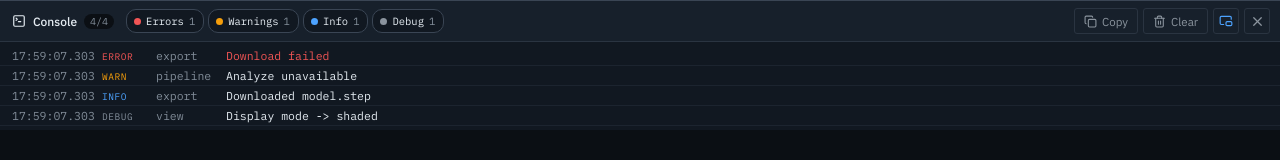
Test: DebugConsole › filters entries by severity with additive chips
The width and height of the screenshot is (1280, 160).
Expected: the text "Download failed" is shown 4 times, x1=226 y1=48 x2=330 y2=63; x1=226 y1=68 x2=357 y2=83; x1=226 y1=88 x2=371 y2=103; x1=226 y1=108 x2=378 y2=123
Click the button "Info 1".
click(336, 21)  # box x1=303 y1=9 x2=368 y2=33
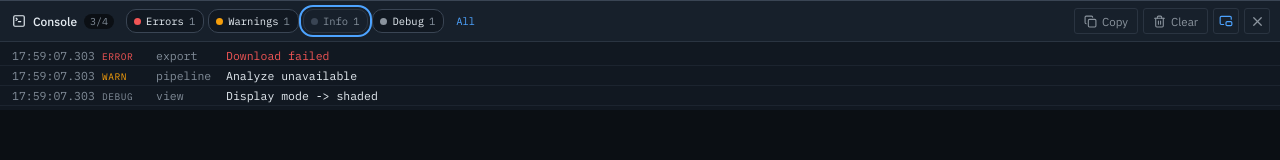
Click the button "Debug 1".
click(408, 21)  # box x1=372 y1=9 x2=444 y2=33
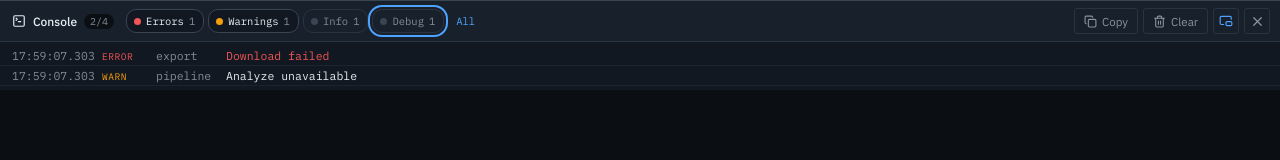
Expected: the text "Downloaded model.step" is not shown
Expected: the text "Display mode -> shaded" is gone
Click the button "All".
click(466, 21)  # box x1=448 y1=9 x2=483 y2=33
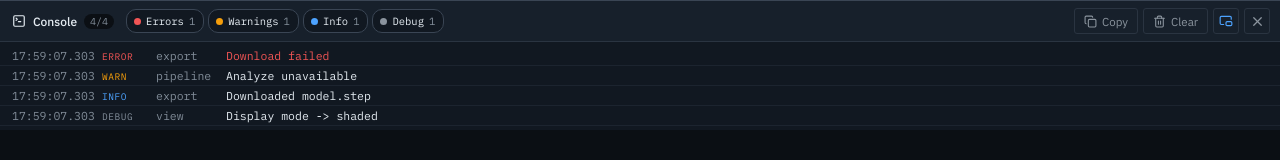
Expected: the text "Downloaded model.step" is shown, x1=226 y1=88 x2=371 y2=103
